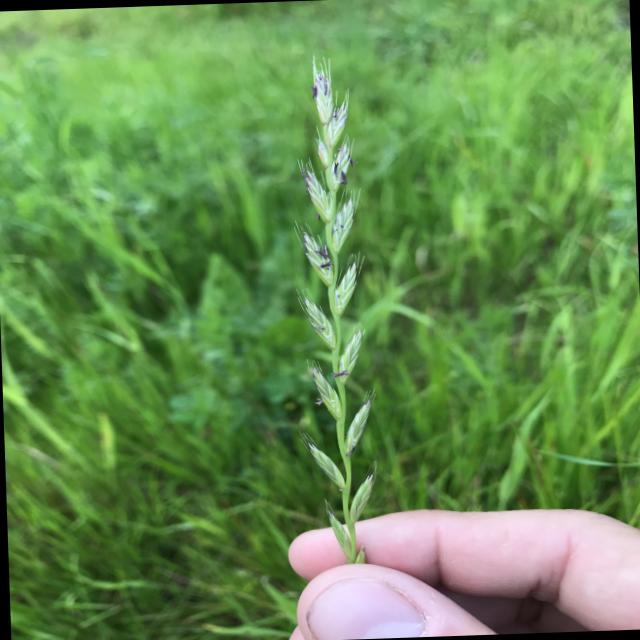Lolium: (280, 51, 386, 566)
